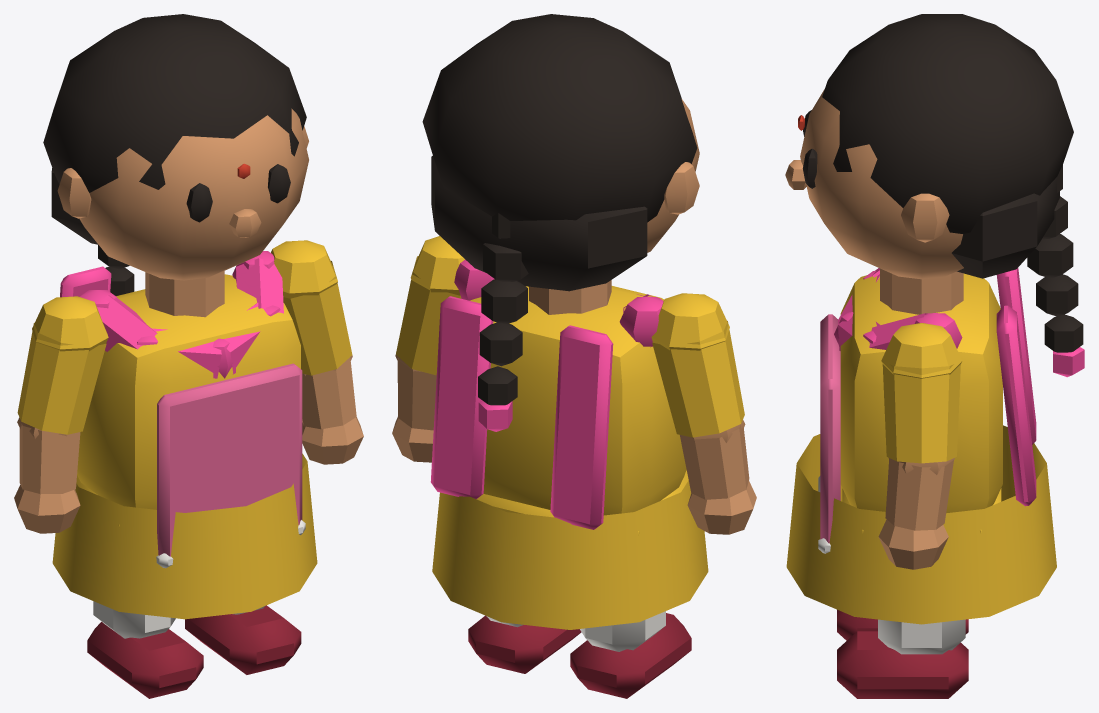
The model's file is pinky.glb.
The picture shows the model from 3 angles, left to right: view 1: azimuth 30°, elevation 25°; view 2: azimuth 150°, elevation 25°; view 3: azimuth 270°, elevation 25°; orthographic projection. The views are drawn at different scales.
Parts seen in each view (by area): view 1: body, head, arm_r, arm_l, leg_r, leg_l; view 2: body, head, arm_r, arm_l, leg_r, leg_l; view 3: head, body, arm_l, leg_l, leg_r.
Part boxes in pixels (<box>): body: <box>52,251,317,619</box>; head: <box>43,14,308,295</box>; arm_r: <box>14,296,108,533</box>; arm_l: <box>271,240,363,464</box>; leg_r: <box>87,601,203,698</box>; leg_l: <box>185,605,301,674</box>; body: <box>430,259,708,629</box>; head: <box>422,14,699,431</box>; arm_r: <box>651,293,756,534</box>; arm_l: <box>392,236,464,462</box>; leg_r: <box>570,611,691,698</box>; leg_l: <box>468,615,581,673</box>; head: <box>785,14,1084,377</box>; body: <box>786,267,1056,624</box>; arm_l: <box>878,323,962,569</box>; leg_l: <box>837,619,968,698</box>; leg_r: <box>837,609,968,640</box>.
Bounding box in the file's own units: 0.5741 × 0.9984 × 0.4253.
Materials: 1 (1 with a texture image).
